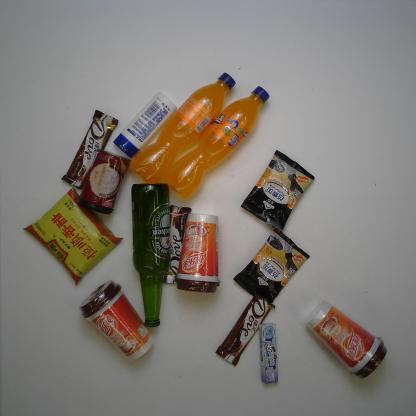Alcohol: (130, 181, 172, 328)
Candy: (258, 323, 278, 384)
Canned Food: (77, 148, 132, 216)
Chocolate: (60, 109, 119, 190), (215, 294, 277, 366), (162, 204, 193, 284)
Drink: (128, 70, 236, 186), (163, 85, 270, 201)
Instant Drink: (304, 300, 388, 380), (78, 279, 155, 363), (240, 150, 316, 232), (232, 228, 310, 304), (174, 212, 222, 294)
Personal Hygiene: (112, 90, 178, 159)
Seasoner: (22, 188, 124, 286)
